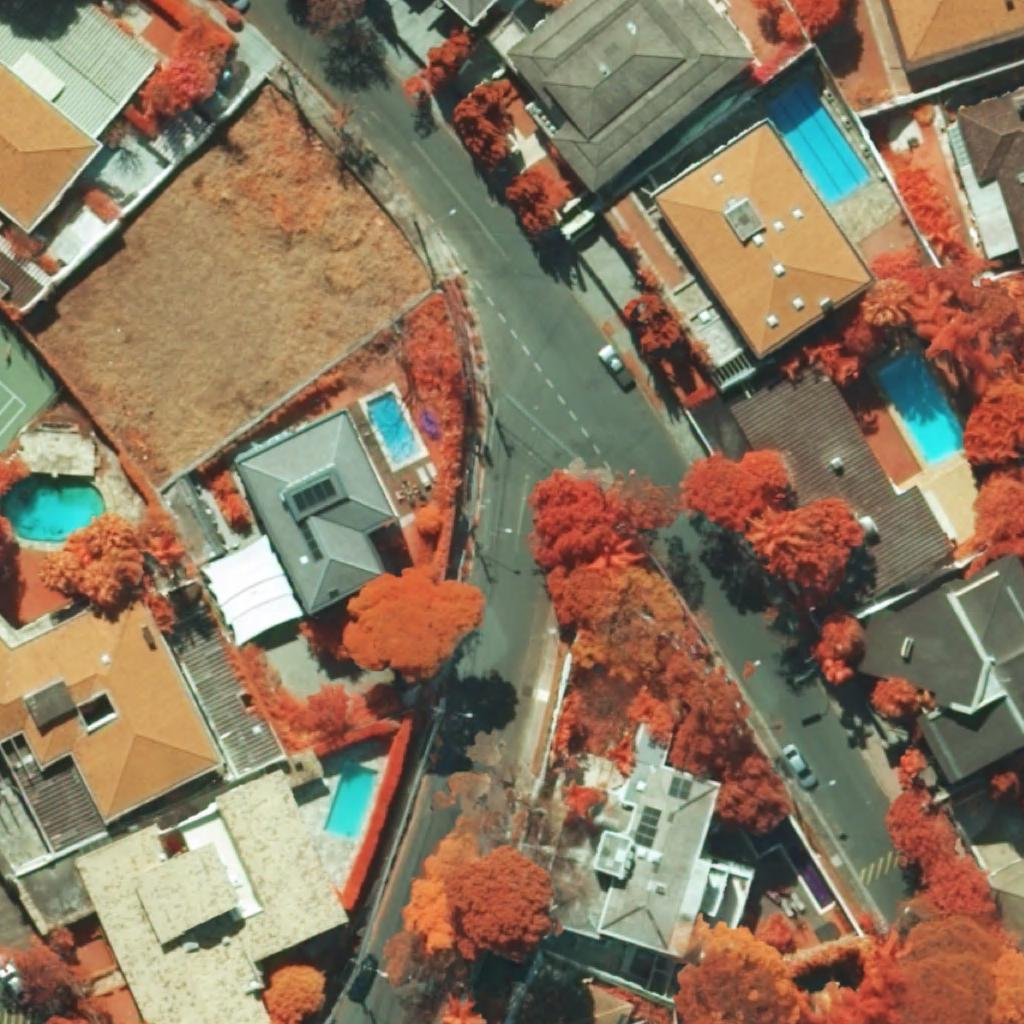pool: (766, 78, 873, 206), (875, 351, 964, 466), (747, 817, 837, 910), (0, 474, 107, 542), (324, 761, 378, 839), (366, 391, 422, 465)
